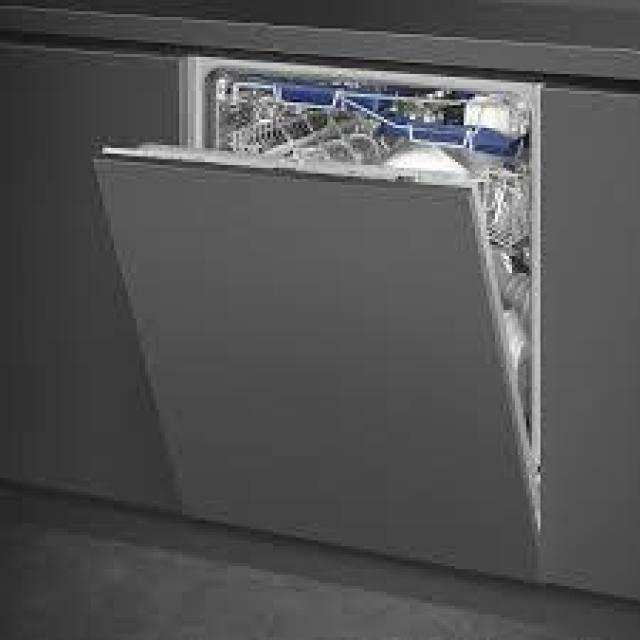dishwasher: (85, 40, 552, 580)
